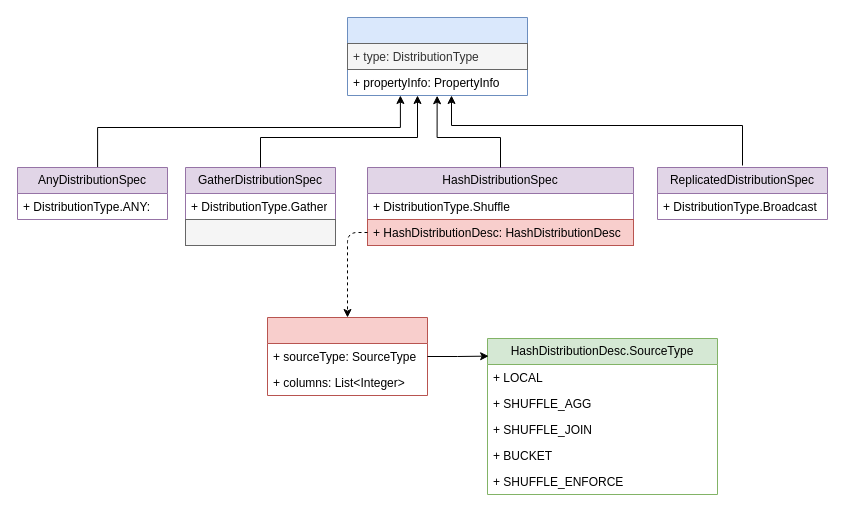
This 845x515 diagram has some shape labels left out. The shapes that lost their labels are listed below. From the top down, each one's box as (x1, y1, x2, y2) in pixels, then its label:
(346, 16, 528, 96): DistributionSpec
(184, 218, 336, 246): + limit: Long
(266, 316, 428, 396): HashDistributionDesc
